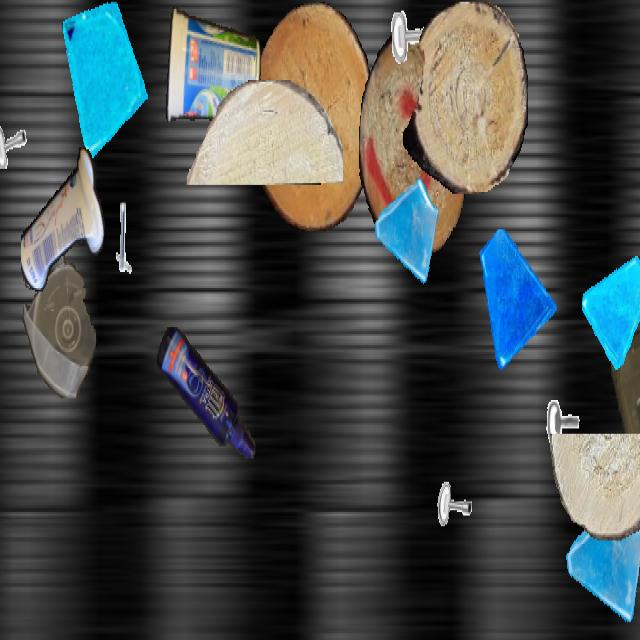glass: (61, 2, 153, 165), (477, 230, 557, 372), (564, 489, 640, 638), (373, 172, 441, 294), (582, 247, 640, 368), (618, 416, 640, 558)
metal: (385, 2, 445, 108), (431, 439, 483, 532), (93, 188, 143, 278), (544, 366, 590, 448), (0, 76, 32, 169)
plastic: (157, 327, 255, 459), (21, 144, 105, 297), (164, 2, 260, 126), (22, 240, 96, 396), (611, 265, 640, 638)
wood: (251, 2, 375, 229), (403, 2, 527, 194), (359, 36, 467, 252), (186, 80, 342, 183), (550, 434, 640, 540)
